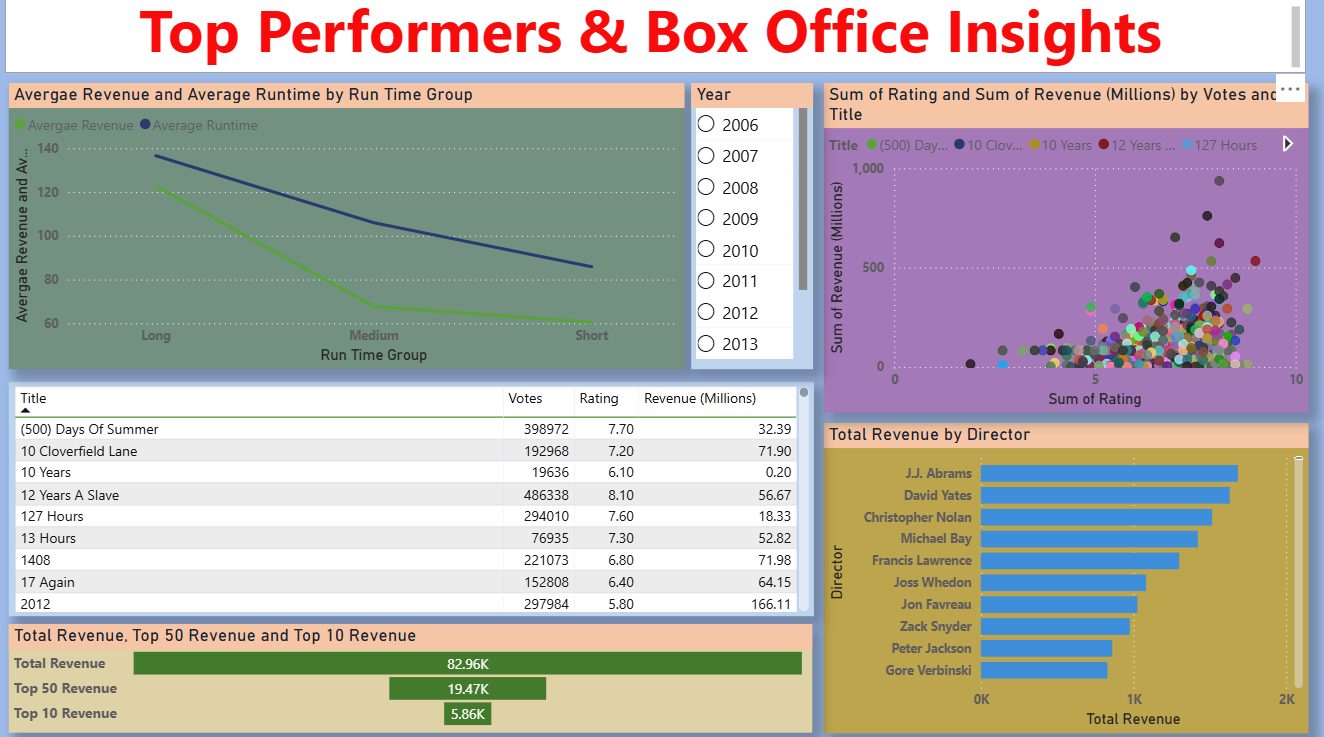

This screenshot's page, from the dashboard's own definition file:
{"tool":"powerbi","page":{"name":"Top Performers","canvas":[1280,720],"ordinal":2},"visuals":[{"type":"barChart","fields":{"Category":["IMDB-Movie-Data.Director"],"Y":["IMDB-Movie-Data.Total Revenue"]},"box":[795,412.6,464.6,297.2],"z":0},{"type":"tableEx","fields":{"Values":["IMDB-Movie-Data.Title","IMDB-Movie-Data.Votes","IMDB-Movie-Data.Rating","IMDB-Movie-Data.Revenue (Millions)"]},"box":[13,372.2,771.9,225.1],"z":1000},{"type":"scatterChart","fields":{"Category":["IMDB-Movie-Data.Votes"],"Series":["IMDB-Movie-Data.Title"],"X":["Sum(IMDB-Movie-Data.Rating)"],"Y":["Sum(IMDB-Movie-Data.Revenue (Millions))"]},"box":[795,86.6,464.6,316],"z":2000},{"type":"funnel","fields":{"Y":["IMDB-Movie-Data.Total Revenue","IMDB-Movie-Data.Top 50 Revenue","IMDB-Movie-Data.Top 10 Revenue"]},"box":[13.2,605.2,770.6,104.3],"z":9000},{"type":"lineChart","fields":{"Category":["IMDB-Movie-Data.Run Time Group"],"Y":["IMDB-Movie-Data.Avergae Revenue","IMDB-Movie-Data.Average Runtime"]},"box":[13,86.6,647.8,274.1],"z":9001},{"type":"listSlicer","fields":{"Values":["IMDB-Movie-Data.Year"]},"box":[668,86.6,116.9,274.1],"z":9002},{"type":"textbox","box":[10.1,0,1246.5,76.5],"z":9003}]}

Visuals, with their boxes in screenshot pixels (x1, y1, x2, y2), scaled from the page's 1280x720 canvas onto the 1324x737 screenshot:
barChart - IMDB-Movie-Data.Director x IMDB-Movie-Data.Total Revenue: box=[822, 422, 1303, 727]
tableEx - IMDB-Movie-Data.Title x IMDB-Movie-Data.Votes: box=[13, 381, 812, 611]
scatterChart - IMDB-Movie-Data.Votes x IMDB-Movie-Data.Title: box=[822, 89, 1303, 412]
funnel - IMDB-Movie-Data.Total Revenue x IMDB-Movie-Data.Top 50 Revenue: box=[14, 619, 811, 726]
lineChart - IMDB-Movie-Data.Run Time Group x IMDB-Movie-Data.Avergae Revenue: box=[13, 89, 684, 369]
listSlicer - IMDB-Movie-Data.Year: box=[691, 89, 812, 369]
textbox: box=[10, 0, 1300, 78]
